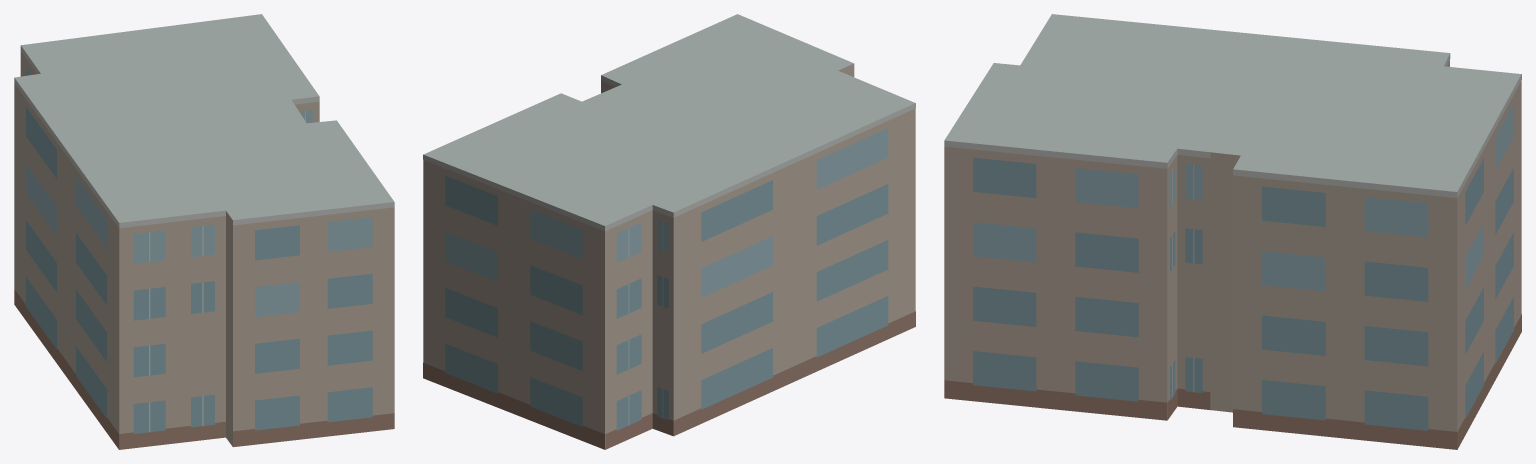
Rendered from survey-upis-32663543.glb.
3 views of the same model, side by side, from view 1: azimuth 30°, elevation 25°; view 2: azimuth 150°, elevation 25°; view 3: azimuth 270°, elevation 25° (orthographic). The views are drawn at different scales.
Parts seen in each view (by area): view 1: survey-upis-32663543.tmp; view 2: survey-upis-32663543.tmp; view 3: survey-upis-32663543.tmp.
Part boxes in pixels (bbox=[...]): survey-upis-32663543.tmp: bbox=[14, 14, 394, 449]; survey-upis-32663543.tmp: bbox=[423, 14, 915, 449]; survey-upis-32663543.tmp: bbox=[944, 14, 1521, 449].
Bounding box in the file's own units: 15.41 × 10.4 × 21.12.
